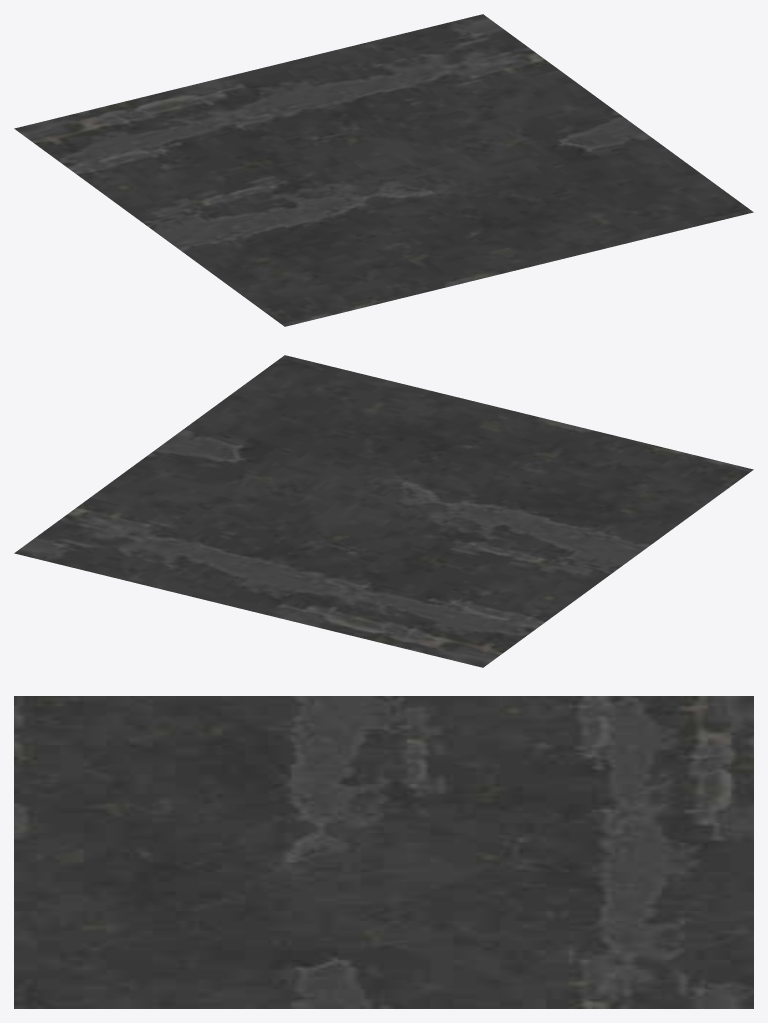
The model's file is roof1.glb.
3 renders of one model, top to bottom at view 1: azimuth 30°, elevation 25°; view 2: azimuth 150°, elevation 25°; view 3: azimuth 270°, elevation 25°, orthographic. The views are drawn at different scales.
Size of the model in its own units: 67.41 by 0 by 67.41.
Materials: 1 (1 with a texture image).
